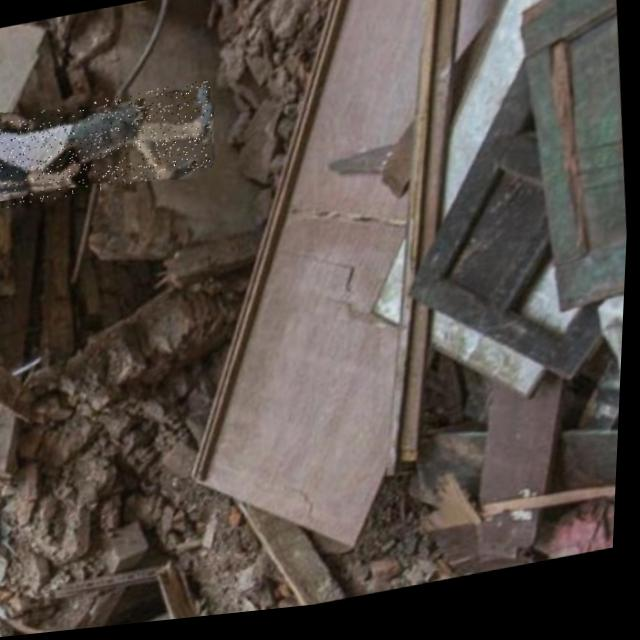Person in Rubble: (0, 81, 219, 210)
